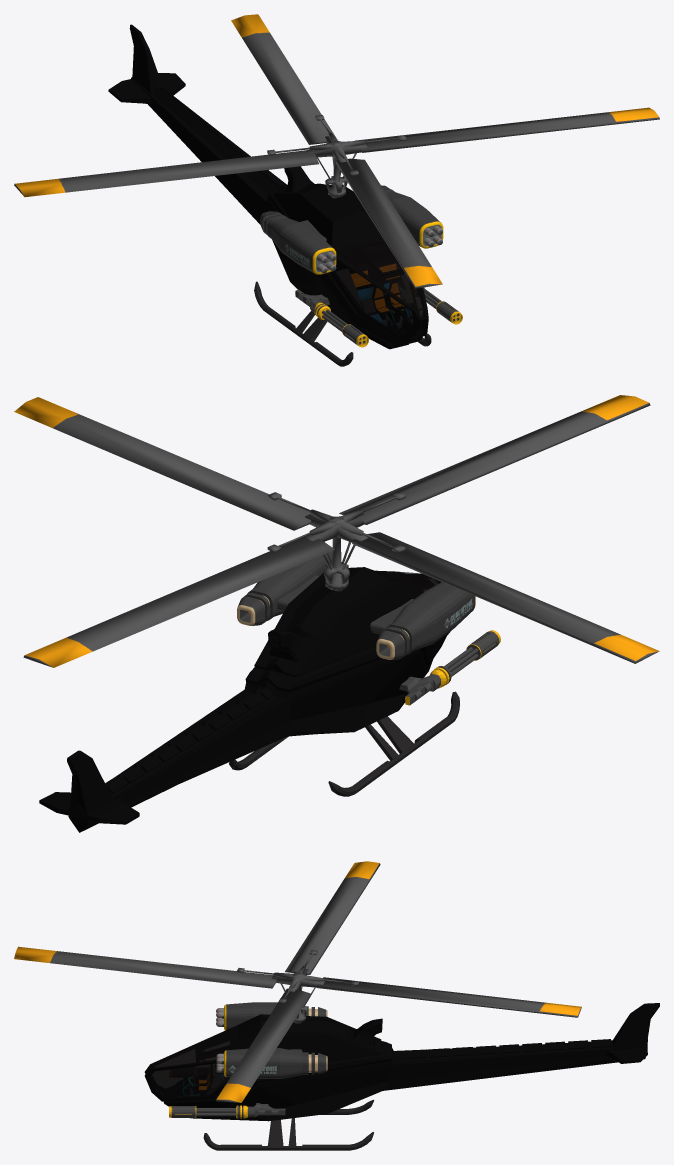
File: attack_helicopter.glb
3 views of the same model, one above another, from view 1: azimuth 30°, elevation 25°; view 2: azimuth 150°, elevation 25°; view 3: azimuth 270°, elevation 25° (orthographic). The views are drawn at different scales.
Parts seen in each view (by area): view 1: Top_Rotor, BodyOrg, CockpitWindows, missileLauncher, CockpitInteria.001, Minigun, LandingSupporter; view 2: BodyOrg, Top_Rotor, missileLauncher, LandingSupporter, Minigun; view 3: BodyOrg, Top_Rotor, CockpitWindows, missileLauncher, LandingSupporter, Minigun, CockpitInteria.001.
Boxes of the visible parts, x1,y1,x2,y2 form: Top_Rotor: (14,14,659,288); BodyOrg: (108,24,428,349); CockpitWindows: (333,241,425,339); missileLauncher: (260,185,443,274); CockpitInteria.001: (335,258,412,335); Minigun: (295,287,462,347); LandingSupporter: (254,281,431,366); BodyOrg: (39,567,450,832); Top_Rotor: (14,395,659,667); missileLauncher: (237,551,475,659); LandingSupporter: (229,691,459,796); Minigun: (399,630,500,705); BodyOrg: (144,1003,659,1121); Top_Rotor: (14,861,581,1102); CockpitWindows: (145,1031,229,1098); missileLauncher: (221,1002,327,1078); LandingSupporter: (203,1099,374,1150); Minigun: (169,1103,285,1118); CockpitInteria.001: (170,1050,229,1097).
Size of the model in its own units: 2.82 by 0.8598 by 3.2.
9 materials, 6 textured.
